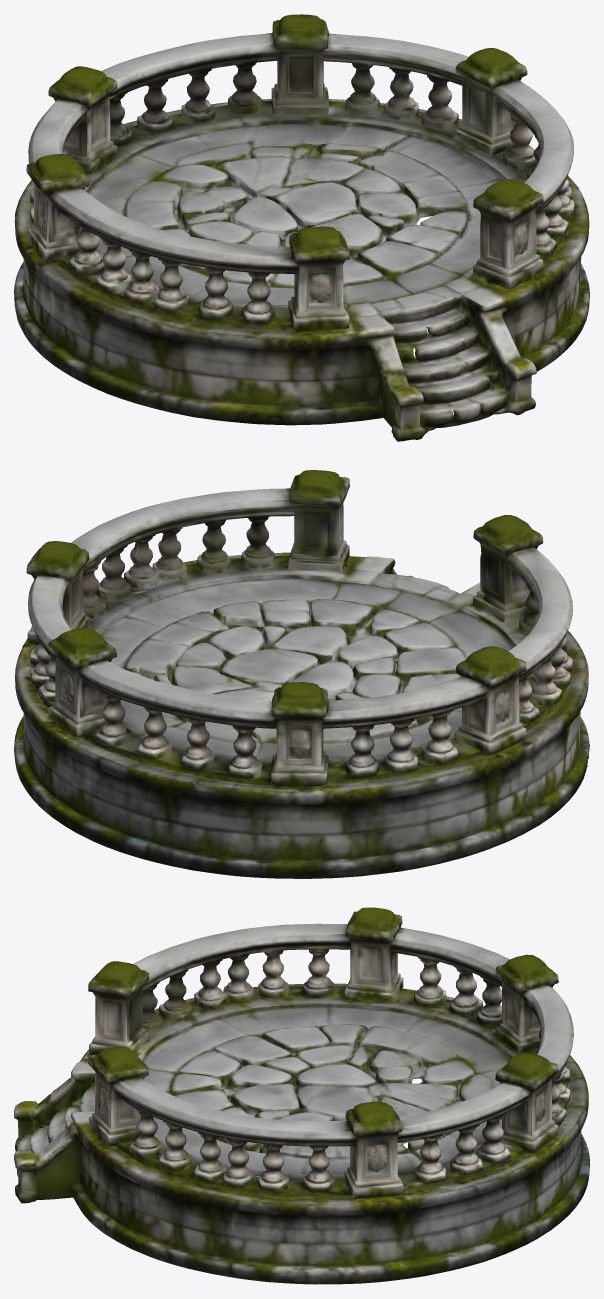
The model's file is podium.glb.
3 views of the same model, one above another, from view 1: azimuth 30°, elevation 25°; view 2: azimuth 150°, elevation 25°; view 3: azimuth 270°, elevation 25° (orthographic). The views are drawn at different scales.
Visible parts, largest first — view 1: node_0; view 2: node_0; view 3: node_0.
Part boxes in pixels (x1=…): node_0: x1=14, y1=14, x2=589, y2=441; node_0: x1=14, y1=470, x2=589, y2=878; node_0: x1=14, y1=907, x2=589, y2=1284.
Size of the model in its own units: 1.04 by 0.3532 by 1.14.
1 material, 1 textured.
